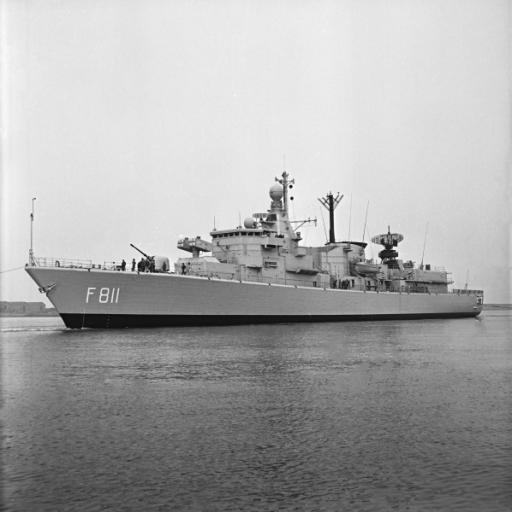Fragata: (23, 135, 489, 334)
